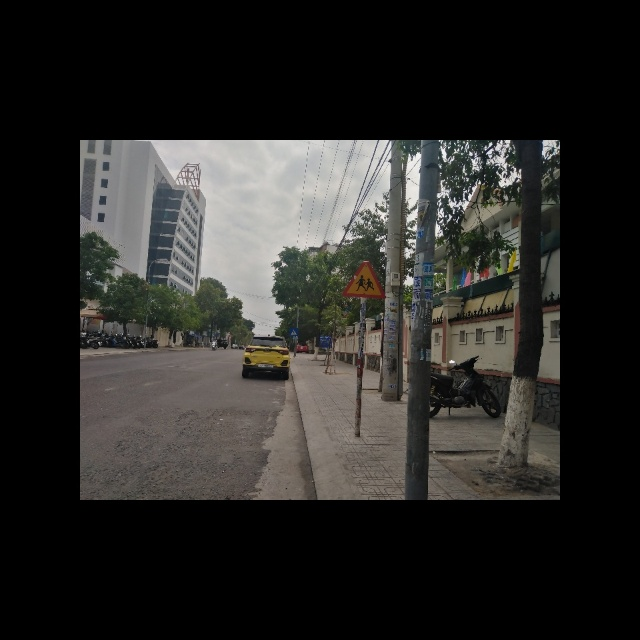Trẻ em ngang qua: (342, 261, 384, 298)
Đường dành cho người đi bộ: (288, 327, 299, 336)
